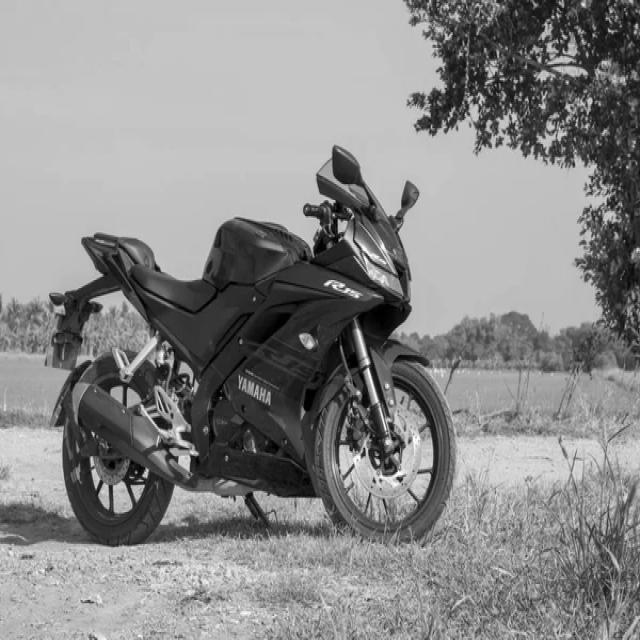Motorcycle: (46, 147, 456, 545)
